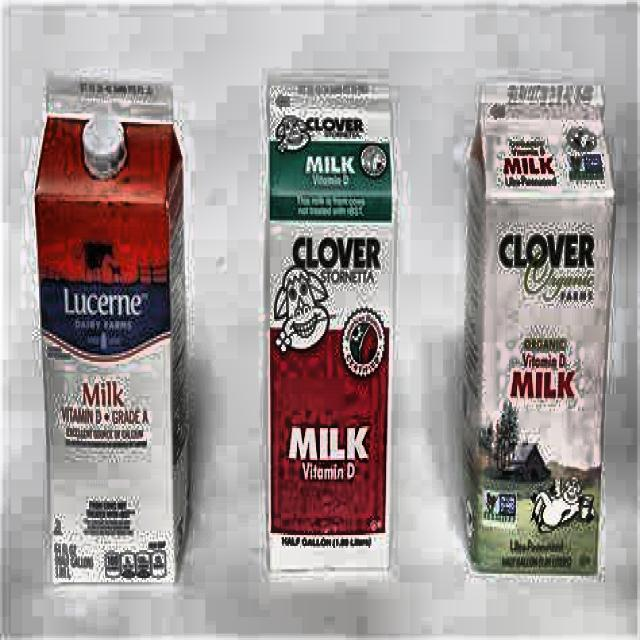cardboard: (34, 80, 190, 584), (460, 79, 616, 574), (263, 73, 397, 572)
